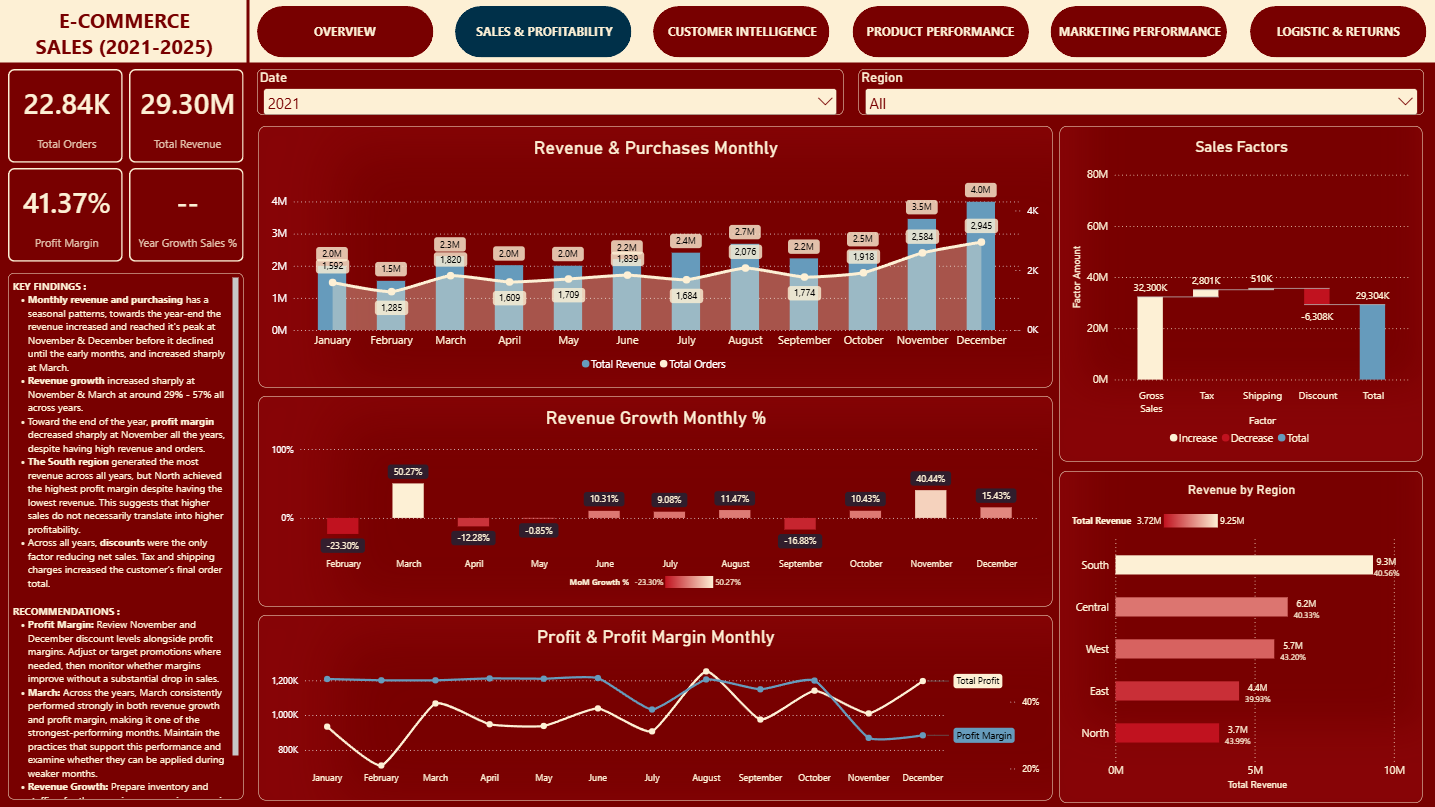

Layout of this report page (visuals, bound fields, positions):
{"tool":"powerbi","page":{"name":"Sales & Profitability","canvas":[1920,1080],"ordinal":1},"visuals":[{"type":"shape","box":[0,0,1919.4,83.6],"z":0},{"type":"cardVisual","fields":{"Data":["Measure  - Sales.Total Orders","Measure  - Sales.Total Revenue"]},"box":[11,92.4,314.8,125.5],"z":1000},{"type":"cardVisual","fields":{"Data":["Measure  - Sales.Profit Margin","Measure  - Sales.Year Growth Sales %"]},"box":[11,224.5,314.8,125.5],"z":2000},{"type":"textbox","box":[0,0,334.6,83.6],"z":3000},{"type":"shape","box":[272.9,0,120,84],"z":4000},{"type":"textbox","box":[11.8,364.8,313.8,702.1],"z":5000},{"type":"slicer","title":"Date","fields":{"Values":["Date.Date.Variation.Date Hierarchy.Year","Date.Date.Variation.Date Hierarchy.Month"]},"box":[344.9,92.1,782,61.4],"z":6000},{"type":"clusteredColumnChart","title":"Revenue Growth Monthly %","fields":{"Category":["Date.Date.Variation.Date Hierarchy.Month"],"Y":["Measure  - Sales.MoM Growth %"]},"box":[345,527.5,1058.3,280.8],"z":7000},{"type":"lineClusteredColumnComboChart","title":"Revenue & Purchases Monthly","fields":{"Category":["Date.Date.Variation.Date Hierarchy.Month"],"Y":["Measure  - Sales.Total Revenue"],"Y2":["Measure  - Sales.Total Orders"]},"box":[345,167.5,1058.3,348.3],"z":8000},{"type":"barChart","title":"Revenue by Region","fields":{"Category":["ecommerce_sales_analytics_clean.region"],"Y":["Measure  - Sales.Total Revenue"]},"box":[1414.3,628.6,484.3,442.9],"z":9000},{"type":"waterfallChart","title":"Sales Factors","fields":{"Category":["Sales Factors.Factor"],"Y":["Sales Factors.Factor Amount"]},"box":[1414.3,167.1,484.3,447.1],"z":10000},{"type":"slicer","title":"Region","fields":{"Values":["ecommerce_sales_analytics_clean.region"]},"box":[1145.9,92.1,753.7,61.4],"z":11000},{"type":"shape","box":[343.2,8.2,235.4,68.6],"z":12000},{"type":"textbox","box":[317.7,15.7,286.3,60.8],"z":13000},{"type":"shape","box":[1667.1,8.2,235.4,68.6],"z":14000},{"type":"shape","box":[872.8,8.2,235.4,68.6],"z":15000},{"type":"shape","box":[1137.6,8.2,235.4,68.6],"z":16000},{"type":"shape","box":[1402.3,8.2,235.4,68.6],"z":17000},{"type":"shape","box":[608,8.2,235.4,68.6],"z":18000},{"type":"textbox","box":[583.3,15.4,286.3,60.8],"z":19000},{"type":"textbox","box":[847.4,15.4,286.3,60.8],"z":20000},{"type":"textbox","box":[1111.6,15.4,286.3,60.8],"z":21000},{"type":"textbox","box":[1377.9,15.4,286.3,60.8],"z":22000},{"type":"textbox","box":[1657.5,15.4,255.3,61.6],"z":23000},{"type":"actionButton","box":[345.2,15.7,233.4,56.9],"z":24000},{"type":"actionButton","box":[868.9,15.7,233.4,54.9],"z":25000},{"type":"actionButton","box":[1137.6,15.7,233.4,54.9],"z":26000},{"type":"actionButton","box":[1404.3,15.7,233.4,56.9],"z":27000},{"type":"actionButton","box":[1671,15.7,233.4,56.9],"z":28000},{"type":"lineChart","title":"Profit & Profit Margin Monthly","fields":{"Category":["Date.Date.Variation.Date Hierarchy.Month"],"Y":["Measure  - Sales.Total Profit"],"Y2":["Measure  - Sales.Profit Margin"]},"box":[345.7,820,1058.6,247.1],"z":29000}]}

Visuals, with their boxes in screenshot pixels (x1, y1, x2, y2), scaled from the page's 1920x1080 canvas onto the 1435x807 screenshot:
shape: (x1=0, y1=0, x2=1434, y2=62)
cardVisual - Measure  - Sales.Total Orders x Measure  - Sales.Total Revenue: (x1=8, y1=69, x2=244, y2=163)
cardVisual - Measure  - Sales.Profit Margin x Measure  - Sales.Year Growth Sales %: (x1=8, y1=168, x2=244, y2=262)
textbox: (x1=0, y1=0, x2=250, y2=62)
shape: (x1=204, y1=0, x2=294, y2=63)
textbox: (x1=9, y1=273, x2=243, y2=797)
"Date" slicer: (x1=258, y1=69, x2=842, y2=115)
"Revenue Growth Monthly %" clusteredColumnChart: (x1=258, y1=394, x2=1049, y2=604)
"Revenue & Purchases Monthly" lineClusteredColumnComboChart: (x1=258, y1=125, x2=1049, y2=385)
"Revenue by Region" barChart: (x1=1057, y1=470, x2=1419, y2=801)
"Sales Factors" waterfallChart: (x1=1057, y1=125, x2=1419, y2=459)
"Region" slicer: (x1=856, y1=69, x2=1420, y2=115)
shape: (x1=257, y1=6, x2=432, y2=57)
textbox: (x1=237, y1=12, x2=451, y2=57)
shape: (x1=1246, y1=6, x2=1422, y2=57)
shape: (x1=652, y1=6, x2=828, y2=57)
shape: (x1=850, y1=6, x2=1026, y2=57)
shape: (x1=1048, y1=6, x2=1224, y2=57)
shape: (x1=454, y1=6, x2=630, y2=57)
textbox: (x1=436, y1=12, x2=650, y2=57)
textbox: (x1=633, y1=12, x2=847, y2=57)
textbox: (x1=831, y1=12, x2=1045, y2=57)
textbox: (x1=1030, y1=12, x2=1244, y2=57)
textbox: (x1=1239, y1=12, x2=1430, y2=58)
actionButton: (x1=258, y1=12, x2=432, y2=54)
actionButton: (x1=649, y1=12, x2=824, y2=53)
actionButton: (x1=850, y1=12, x2=1025, y2=53)
actionButton: (x1=1050, y1=12, x2=1224, y2=54)
actionButton: (x1=1249, y1=12, x2=1423, y2=54)
"Profit & Profit Margin Monthly" lineChart: (x1=258, y1=613, x2=1050, y2=797)
